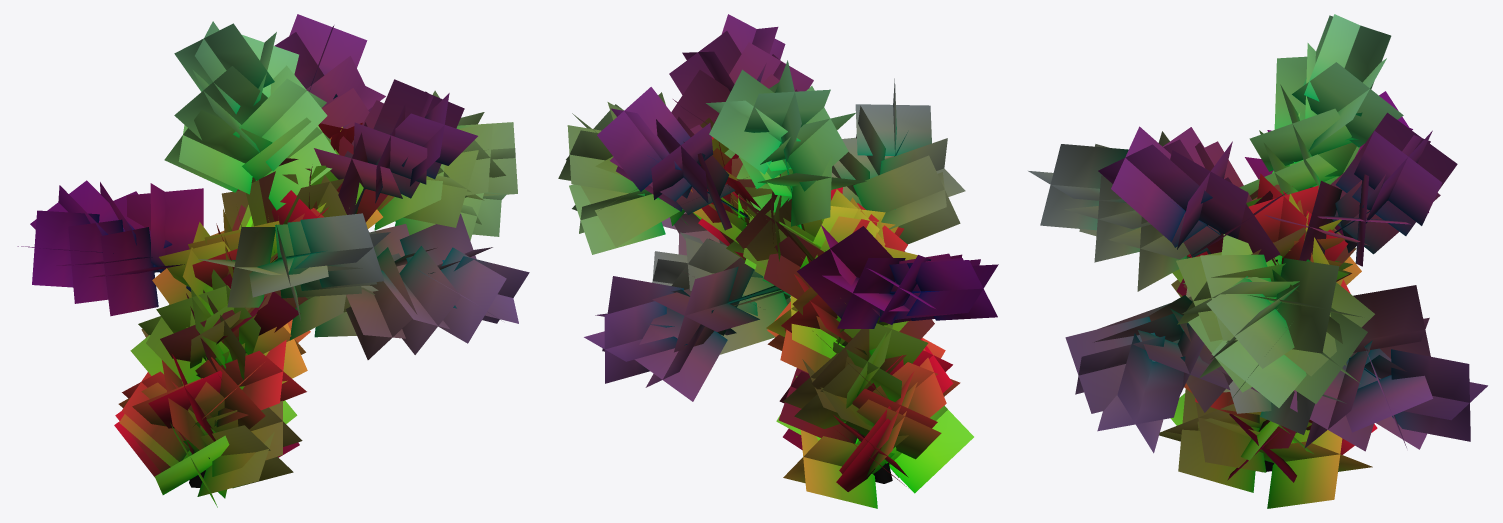
Rendered from URP_P3_Tree_14_LOD_3.fbx.
3 renders of one model, left to right at view 1: azimuth 30°, elevation 25°; view 2: azimuth 150°, elevation 25°; view 3: azimuth 270°, elevation 25°, orthographic. The views are drawn at different scales.
Parts seen in each view (by area): view 1: Tree_14_LOD_3; view 2: Tree_14_LOD_3; view 3: Tree_14_LOD_3.
Part boxes in pixels (x1,y1,x2,y2): Tree_14_LOD_3: (17, 14, 529, 507); Tree_14_LOD_3: (558, 14, 998, 508); Tree_14_LOD_3: (1028, 14, 1487, 508).
Bounding box in the file's own units: 725 × 674 × 546.
